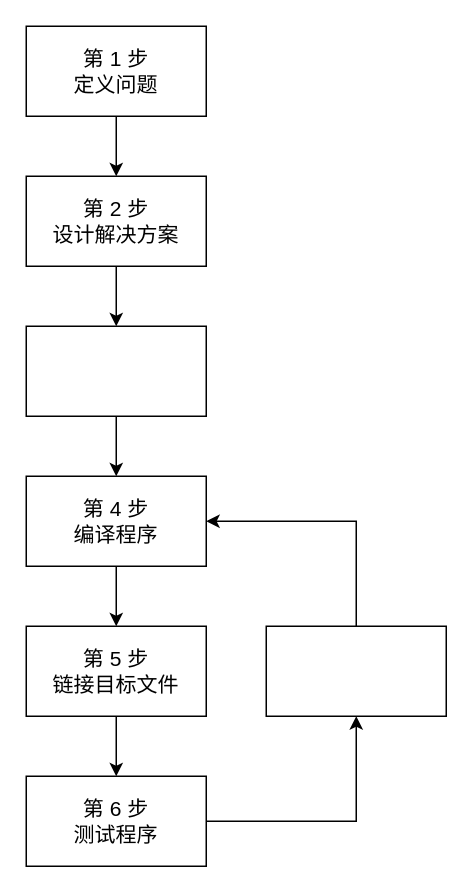
The diagram is 473 pixels wide and 893 high, and some of its shapes have lost their labels. The box of each missing label's shape, as (x1, y1, x2, y2) in pixels:
第 3 步 编写程序 实现解决方案: (25, 325, 206, 416)
第 7 步 调试 debug: (265, 625, 446, 716)
